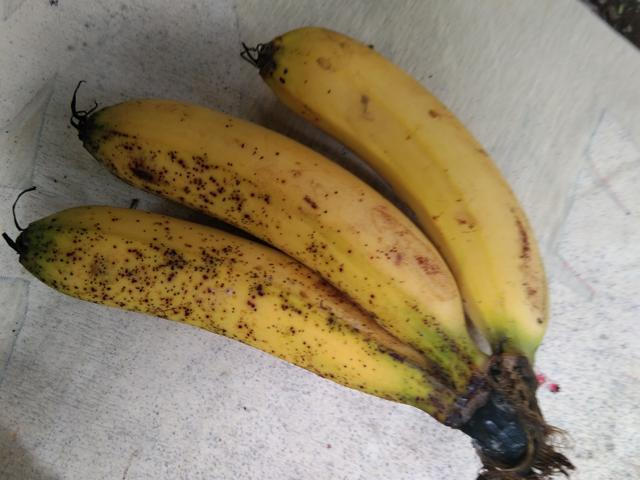freshripe: (260, 19, 550, 349)
ripe: (72, 85, 458, 357), (0, 201, 427, 422)
